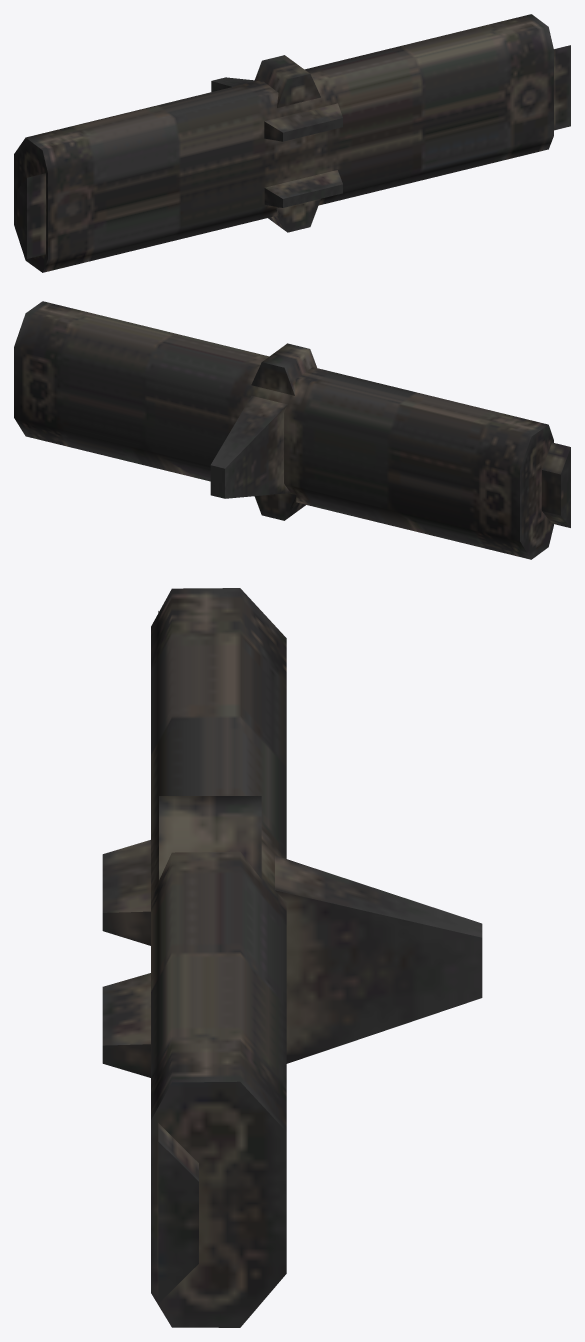
The picture shows the model from 3 angles, top to bottom: view 1: azimuth 30°, elevation 25°; view 2: azimuth 150°, elevation 25°; view 3: azimuth 270°, elevation 25°; orthographic projection. The views are drawn at different scales.
Visible parts, largest first — view 1: set_0_group_0; view 2: set_0_group_0; view 3: set_0_group_0.
Boxes of the visible parts, x1,y1,x2,y2 form: set_0_group_0: [14, 14, 570, 272]; set_0_group_0: [14, 301, 570, 559]; set_0_group_0: [102, 588, 482, 1327].
Size of the model in its own units: 0.5373 by 0.1446 by 0.1623.
Materials: 1 (1 with a texture image).
